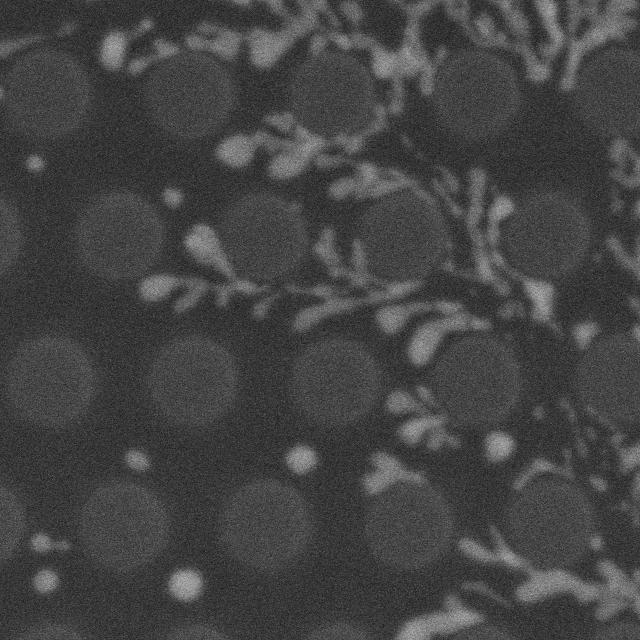Dendrite: (220, 0, 637, 109), (432, 167, 554, 334), (184, 224, 384, 317), (460, 530, 640, 624), (460, 532, 640, 623), (220, 115, 366, 181), (559, 0, 638, 91), (375, 301, 487, 365), (293, 283, 419, 333), (328, 159, 435, 206), (314, 227, 385, 290), (387, 389, 459, 451), (408, 315, 488, 366), (395, 594, 482, 640), (524, 0, 566, 84), (0, 21, 77, 61), (330, 162, 410, 199), (99, 20, 152, 71), (363, 453, 424, 495), (138, 273, 205, 309), (129, 38, 191, 73), (188, 25, 242, 60), (514, 456, 571, 489), (562, 399, 590, 460), (375, 303, 429, 334), (609, 139, 640, 189), (606, 237, 640, 281), (168, 568, 203, 602), (464, 582, 510, 607), (284, 443, 318, 475), (484, 430, 514, 462), (604, 502, 640, 528), (30, 532, 69, 553), (572, 320, 600, 348), (33, 567, 60, 595), (124, 448, 150, 472), (160, 186, 184, 208), (586, 477, 606, 497), (27, 153, 45, 173), (479, 602, 481, 603), (313, 456, 313, 457)
